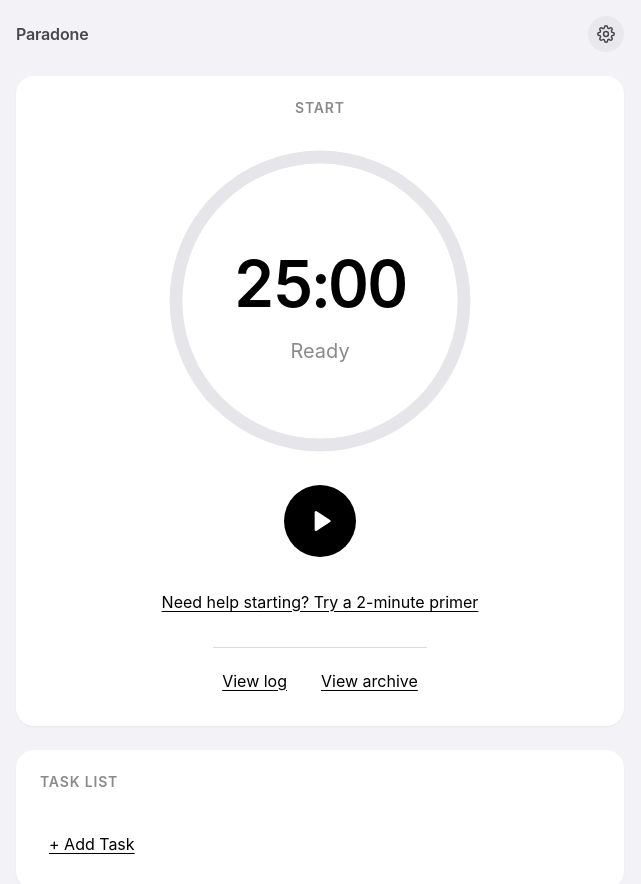
it: settings view › the gear opens the settings view over Setup, and Back returns
This screenshot has width=641, height=884.
Click the button without text in the row of "Paradone".
click(606, 34)  # box x1=588 y1=16 x2=624 y2=52
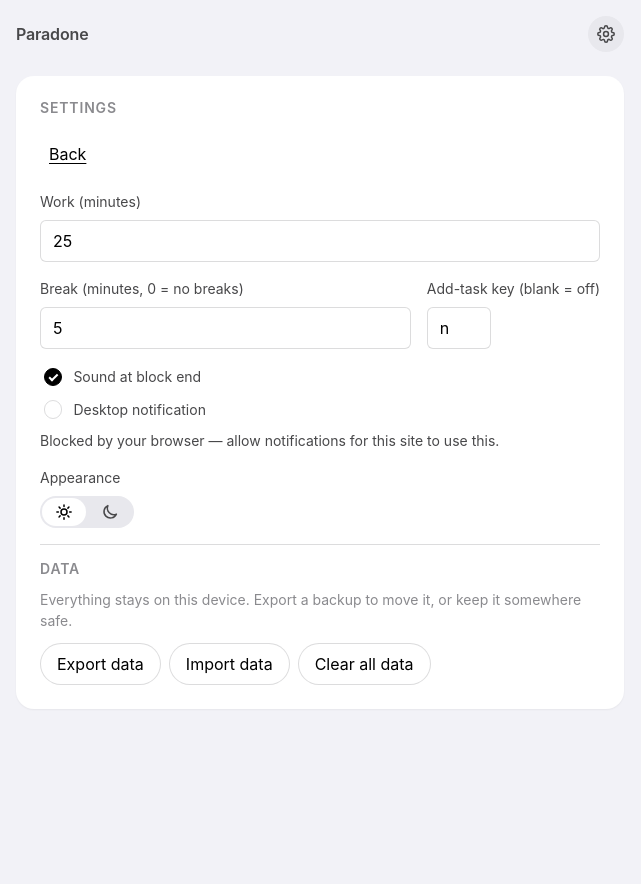
Check: the heading "Settings" is shown, box x1=40 y1=99 x2=117 y2=116
Check: the number field with id "work-duration" holds "25", box x1=40 y1=220 x2=600 y2=262
Check: the number field with id "break-duration" holds "5", box x1=40 y1=307 x2=411 y2=349
Click the button "Back".
click(68, 154)  # box x1=40 y1=133 x2=95 y2=175
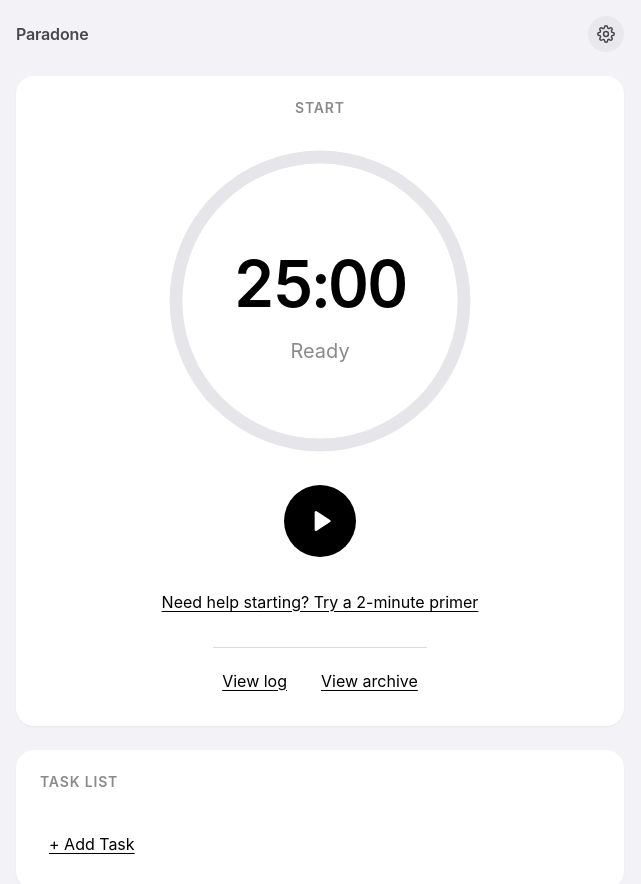
Check: the heading "Start" is shown, box x1=295 y1=100 x2=345 y2=117
